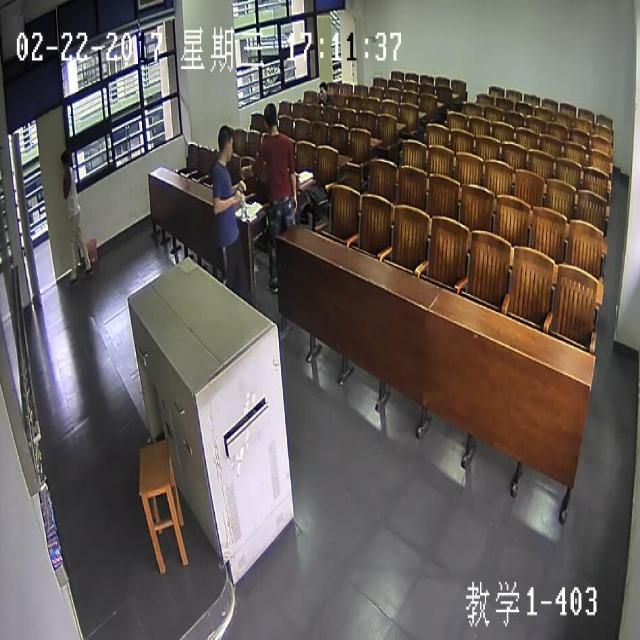person: (218, 120, 235, 162), (261, 100, 278, 132), (60, 148, 70, 170), (318, 78, 328, 100)
